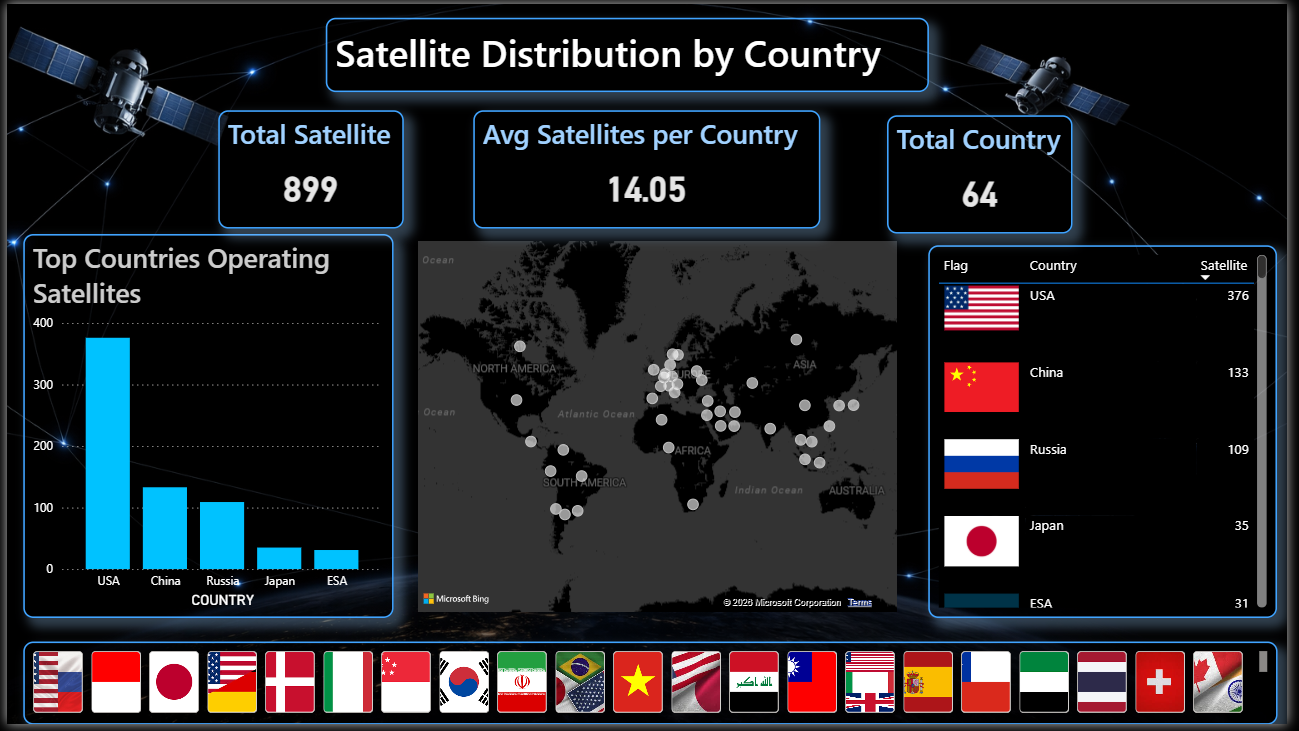

Layout of this report page (visuals, bound fields, positions):
{"tool":"powerbi","page":{"name":"Country Analysis","canvas":[1280,720],"ordinal":1},"visuals":[{"type":"advancedSlicerVisual","fields":{"Values":["Sheet2.Flag"]},"box":[15.7,637.1,1254.3,82.9],"z":0},{"type":"textbox","box":[318.6,14.3,602.9,74.3],"z":1000},{"type":"map","fields":{"Category":["maindata.Country of Operator/Owner"]},"box":[405.7,232.3,488.6,381.4],"z":2000},{"type":"tableEx","fields":{"Values":["Sheet2.Flag","maindata.Country of Operator/Owner","maindata.Official Name of Satellite"]},"box":[921.4,240.9,348.6,372.9],"z":3000},{"type":"columnChart","title":"Top Countries Operating Satellites","fields":{"Y":["CountNonNull(maindata.Official Name of Satellite)"],"Category":["maindata.Country of Operator/Owner"]},"box":[15.7,229.4,370,384.3],"z":4000},{"type":"card","title":"Total Satellite","fields":{"Values":["CountNonNull(maindata.Official Name of Satellite)"]},"box":[210.6,105.7,185.7,118.6],"z":5000},{"type":"card","title":"Total Country","fields":{"Values":["Count(maindata.Country of Operator/Owner)"]},"box":[880,111.4,185.7,118.6],"z":6000},{"type":"card","title":"Avg Satellites per Country","fields":{"Values":["Sheet2.Avg Satellites per Country"]},"box":[466.4,105.7,347.1,118.6],"z":7000}]}

Visuals, with their boxes in screenshot pixels (x1, y1, x2, y2), scaled from the page's 1280x720 canvas onto the 1299x731 screenshot:
advancedSlicerVisual - Sheet2.Flag: 16,647,1289,730
textbox: 323,15,935,90
map - maindata.Country of Operator/Owner: 412,236,908,623
tableEx - Sheet2.Flag x maindata.Country of Operator/Owner: 935,245,1289,623
"Top Countries Operating Satellites" columnChart: 16,233,391,623
"Total Satellite" card: 214,107,402,228
"Total Country" card: 893,113,1082,234
"Avg Satellites per Country" card: 473,107,826,228
